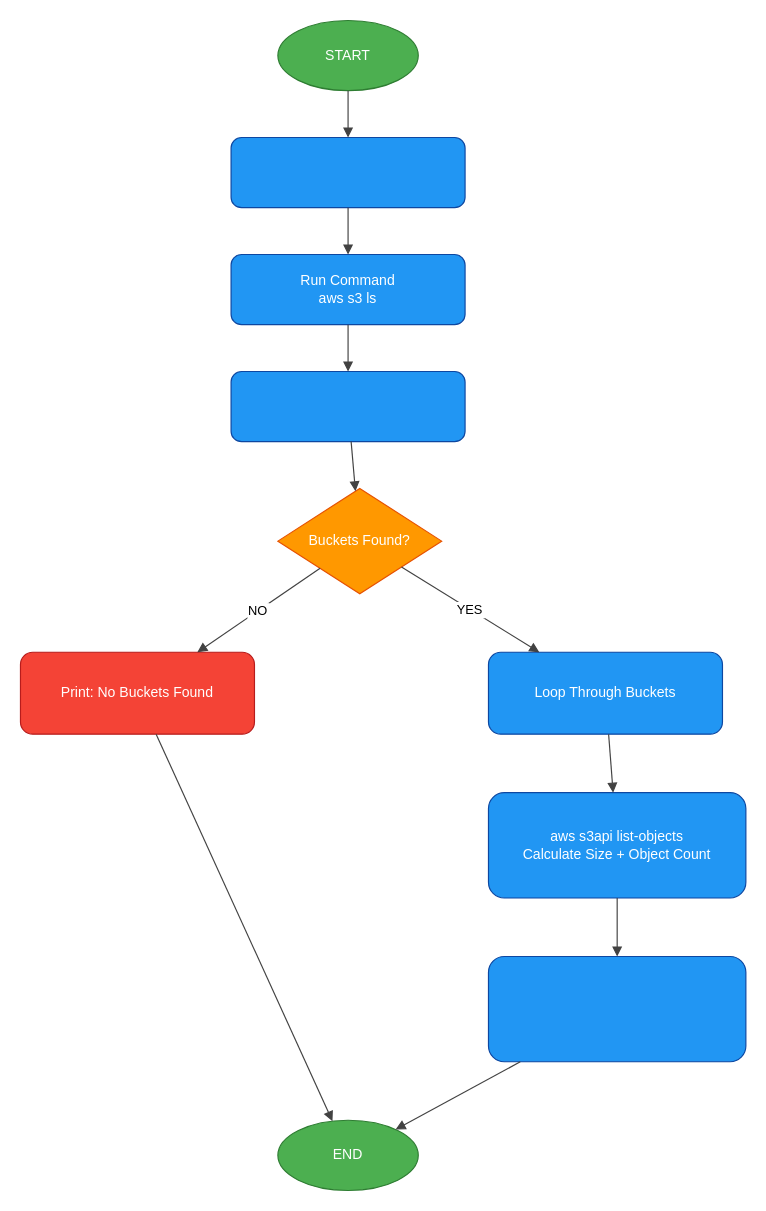
The diagram is 766 pixels wide and 1211 high, and some of its shapes have lost their labels. The shapes that lost their labels are listed below. From the top down, each one's centre as x and y in pixels, then its label:
At point (347, 172): "Print Start Message + Timestamp".
At point (347, 406): "Extract Bucket Names awk {print $3}".
At point (616, 1008): "Print Bucket Details Size + Object Count".
